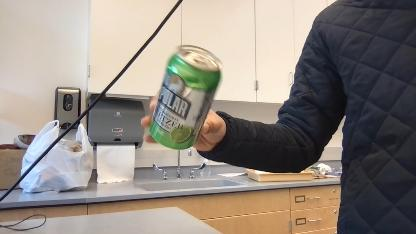Can: (146, 41, 228, 154)
